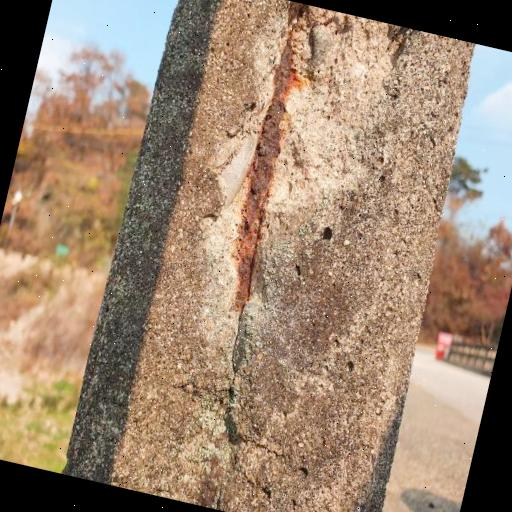exposed_rebar: (234, 36, 299, 312)
